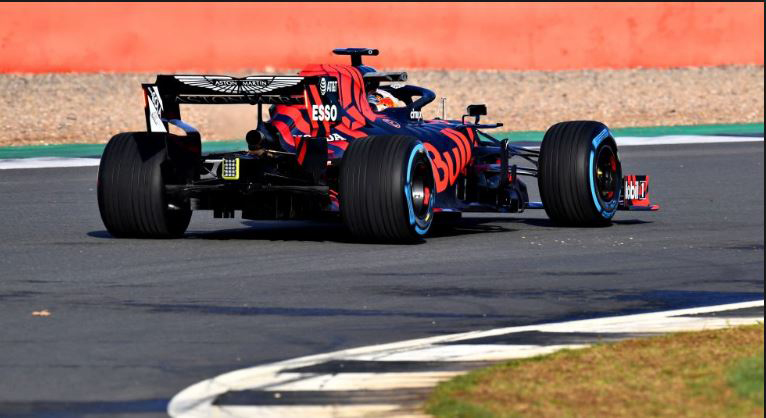F1 Car: (91, 43, 667, 245)
